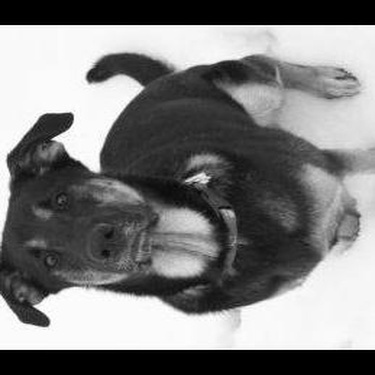dog: (4, 42, 374, 332)
